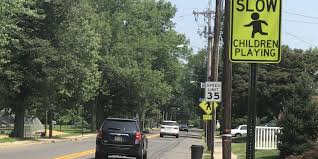speedLimit35: (205, 81, 221, 101)
